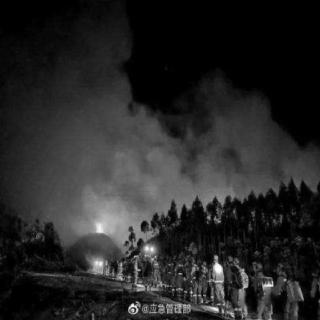other: (211, 257, 221, 274)
